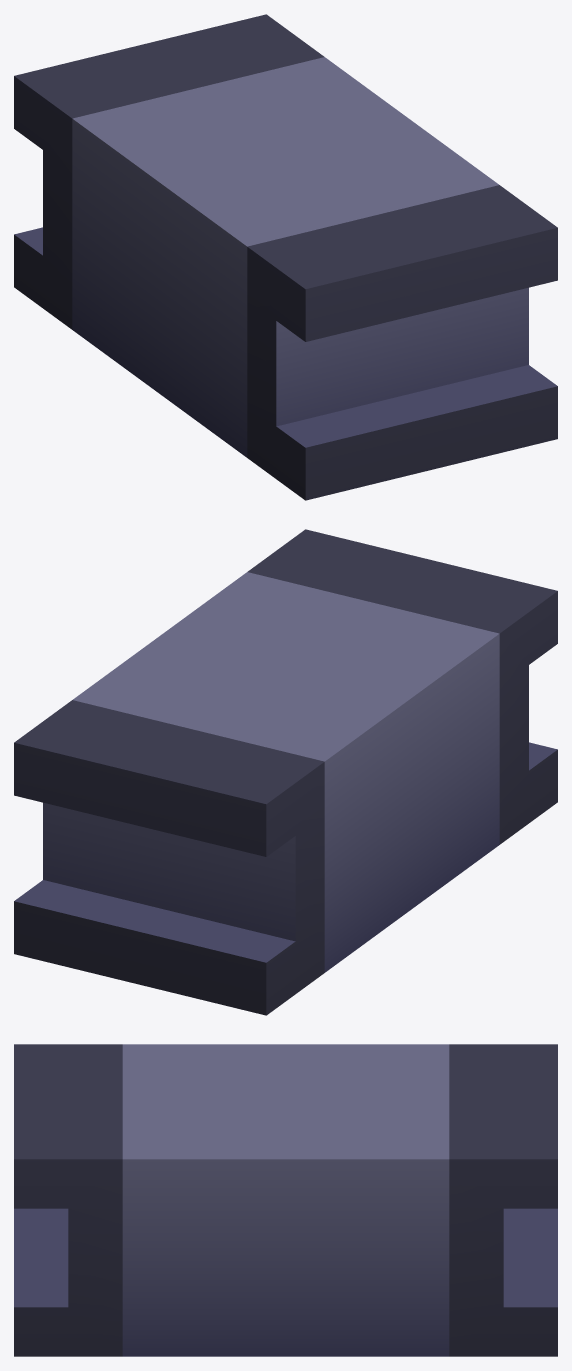
File: conveyor-stripe-part-middle.glb
The picture shows the model from 3 angles, top to bottom: view 1: azimuth 30°, elevation 25°; view 2: azimuth 150°, elevation 25°; view 3: azimuth 270°, elevation 25°; orthographic projection. The views are drawn at different scales.
Parts seen in each view (by area): view 1: conveyor-stripe-part-middle; view 2: conveyor-stripe-part-middle; view 3: conveyor-stripe-part-middle.
Part boxes in pixels (x1,y1,x2,y2): conveyor-stripe-part-middle: (14,14,557,500); conveyor-stripe-part-middle: (14,529,557,1015); conveyor-stripe-part-middle: (14,1044,557,1356).
Size of the model in its own units: 0.5 by 0.4 by 1.
